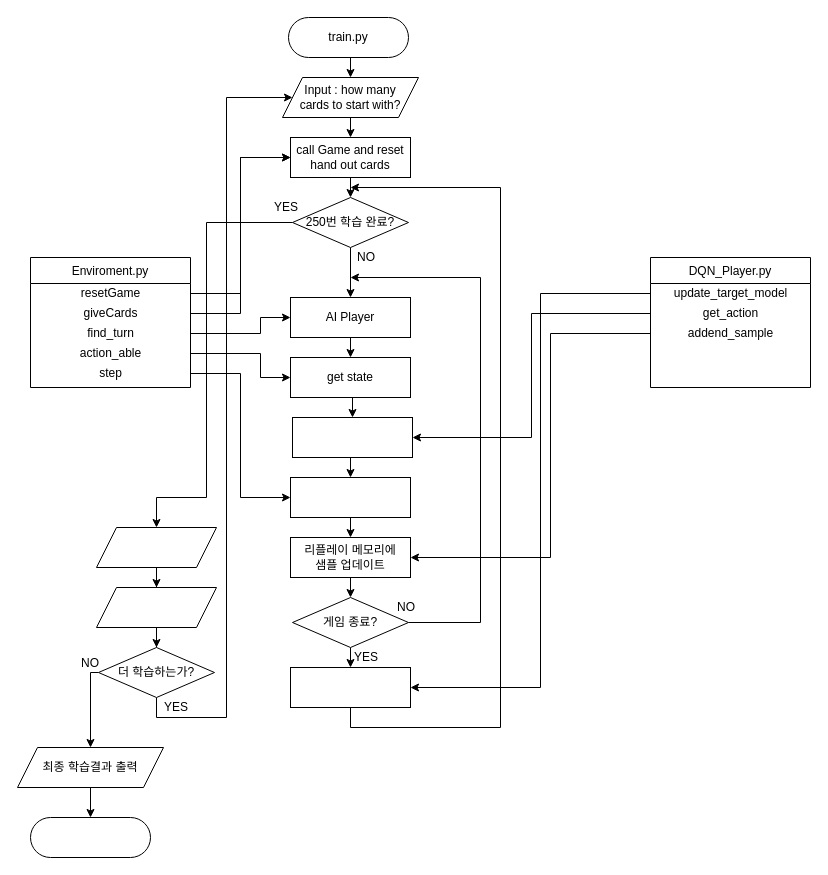
Some shapes in this 828 by 875 pixel diagram are drawn without their labels. Here are the shapes that lost their labels. From the top down, the centre of each, then its label:
At (x=352, y=437): "solve action".
At (x=350, y=497): "결과 반영".
At (x=156, y=547): "학습결과 출력".
At (x=156, y=607): "Input : 더 학습할지?".
At (x=350, y=687): "타겟 신경망 업데이트".
At (x=90, y=837): "종료".
